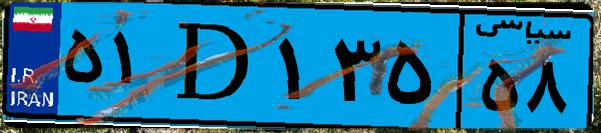1: (270, 28, 330, 110), (110, 28, 158, 98)
3: (330, 28, 385, 110)
5: (385, 28, 445, 110), (57, 26, 110, 100), (475, 38, 525, 113)
8: (525, 38, 570, 115)
D: (158, 12, 270, 120)
